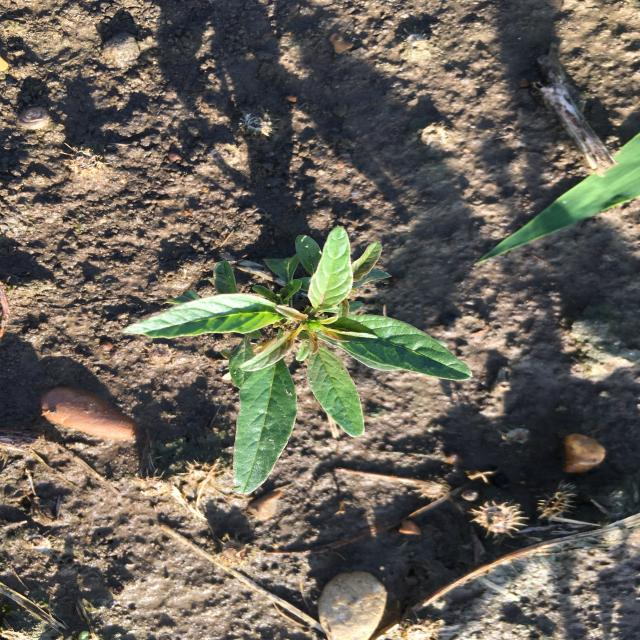Waterhemp: (118, 225, 476, 498)
